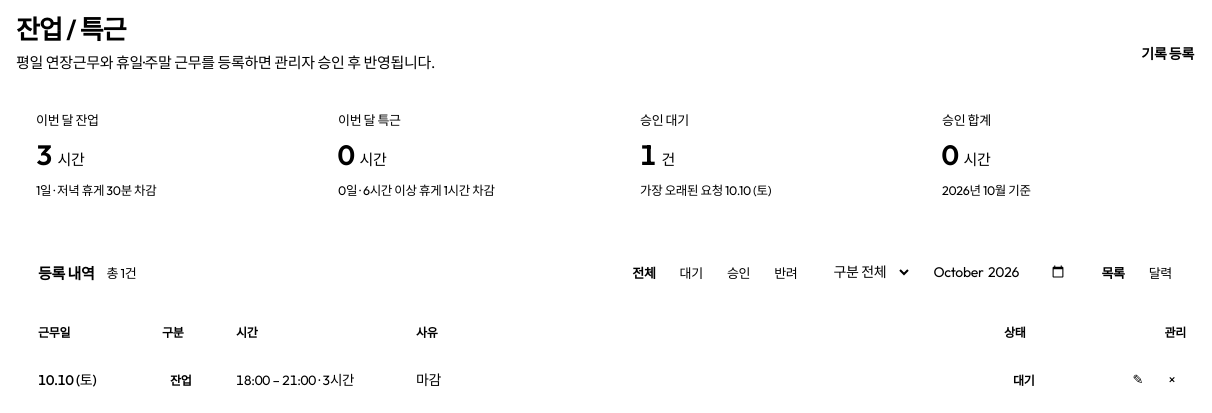
Test case: OvertimeRecordsPage — 필터 › 조회 월을 바꾸면 그 달 기록만 본다
The width and height of the screenshot is (1212, 413).
Expected: the text "마감" is shown, [416, 371, 441, 389]
Replace the text in the field named "조회 월" with "2020-01" at (1000, 272), box [920, 253, 1079, 291]
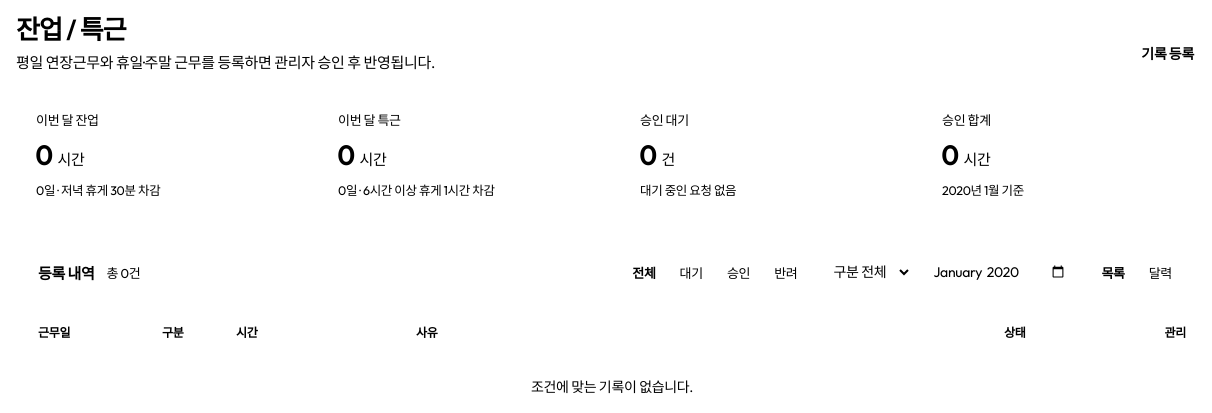
Expected: the text "조건에 맞는 기록이 없습니다." is shown, [531, 378, 693, 396]
